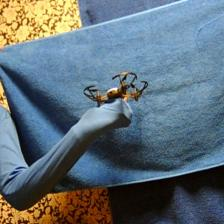drone: (83, 70, 148, 106)
